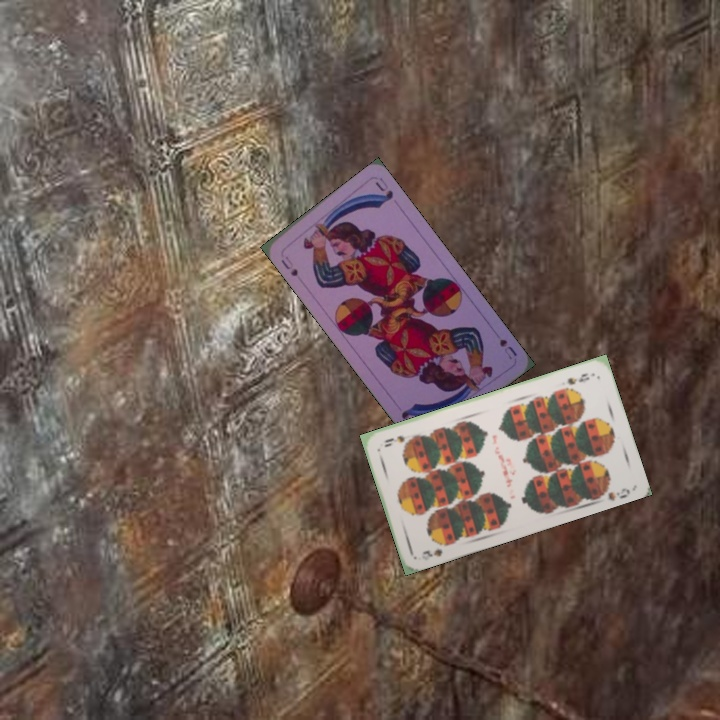S9: (418, 537, 453, 560), (563, 369, 592, 387)
SU: (495, 335, 520, 362), (277, 252, 301, 279)
